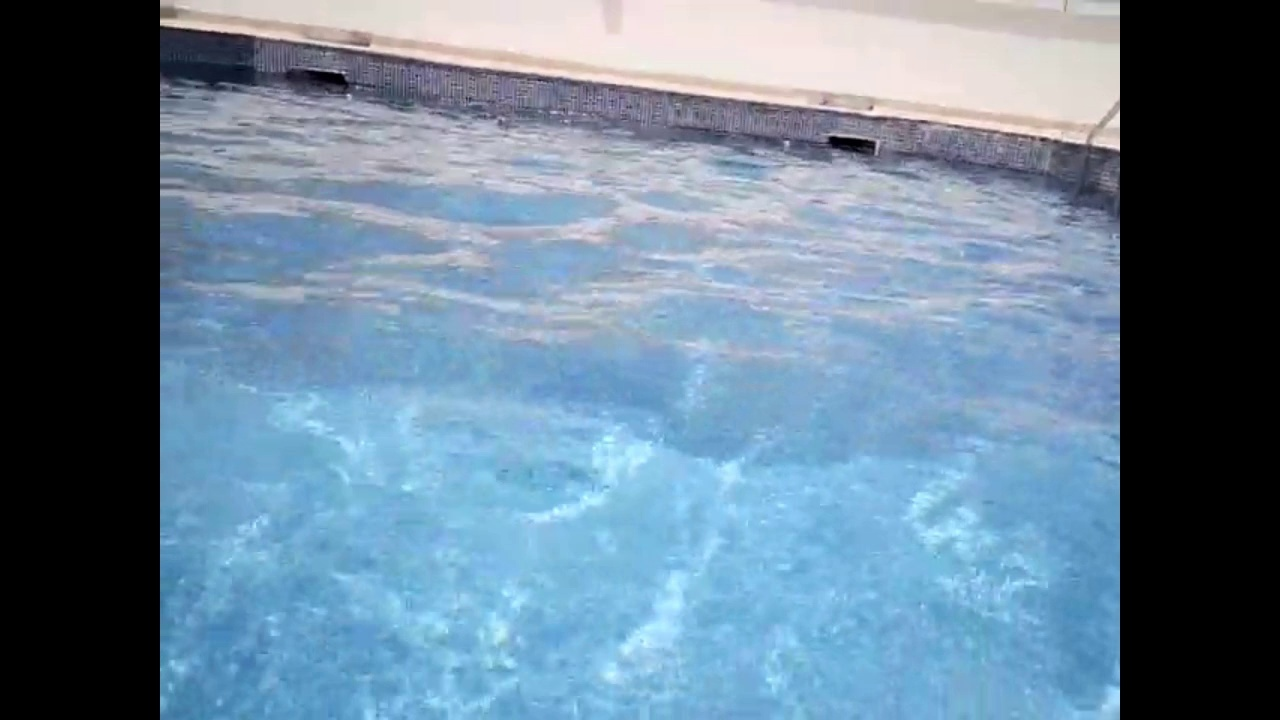debris: (492, 111, 518, 132), (342, 90, 358, 110), (778, 134, 794, 153)
